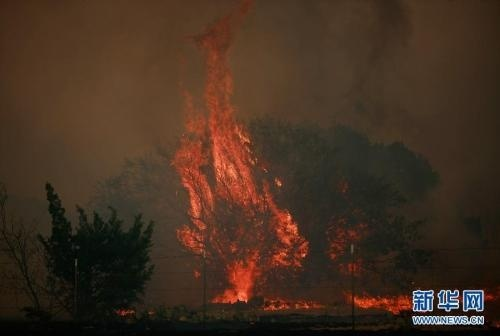fire: (169, 17, 315, 300), (323, 205, 369, 278), (347, 285, 413, 314)
